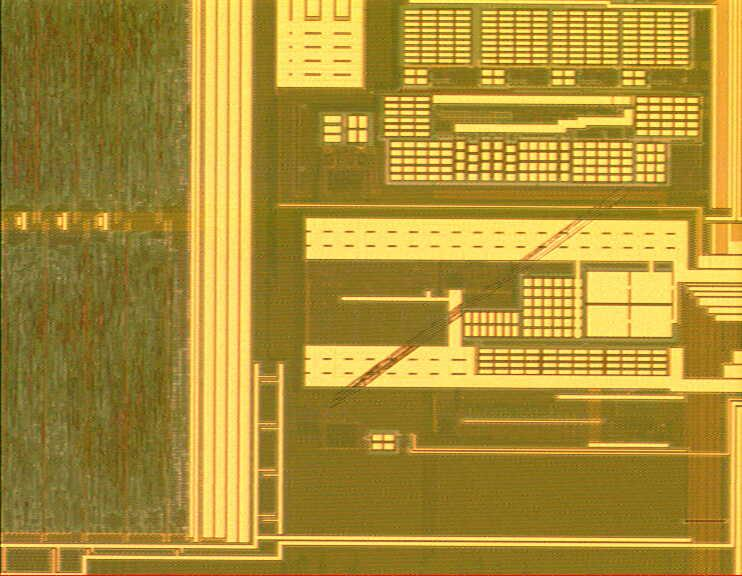SCRATCH: (312, 174, 647, 415)
